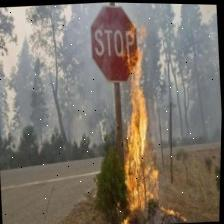Stop: (89, 5, 142, 84)
